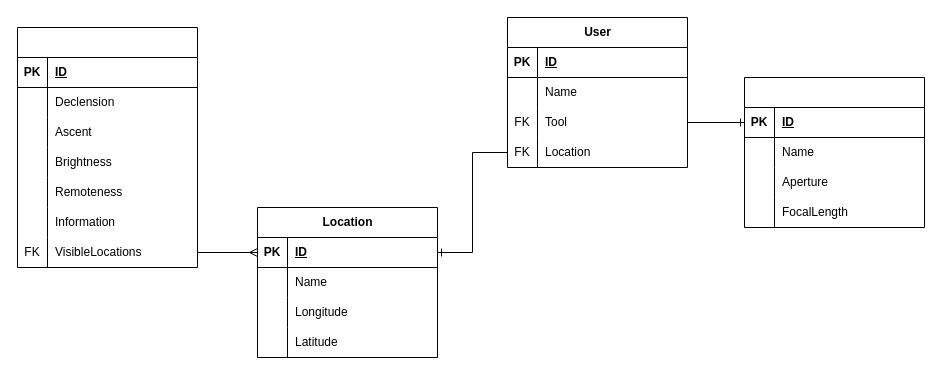
This 942x375 diagram has some shape labels left out. Here are the shapes that lost their labels. From the top down, the box of each, then its label:
(16, 26, 198, 268): SpaceObject
(744, 76, 924, 228): Telescope
